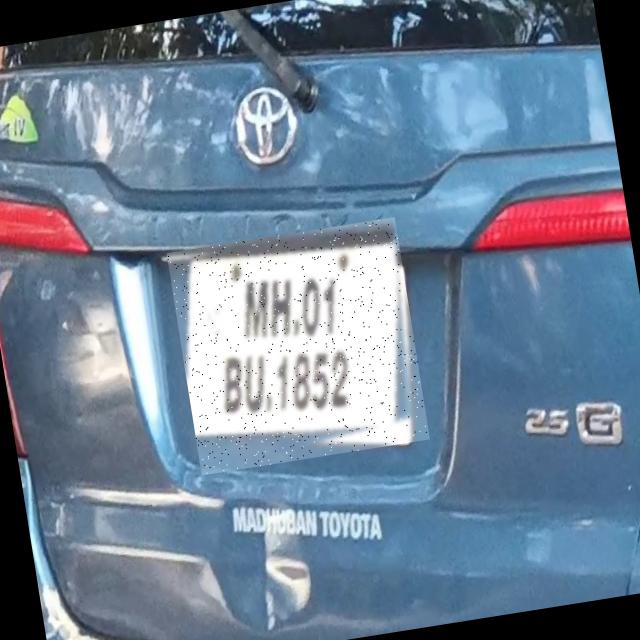Plate: (168, 218, 431, 476)
